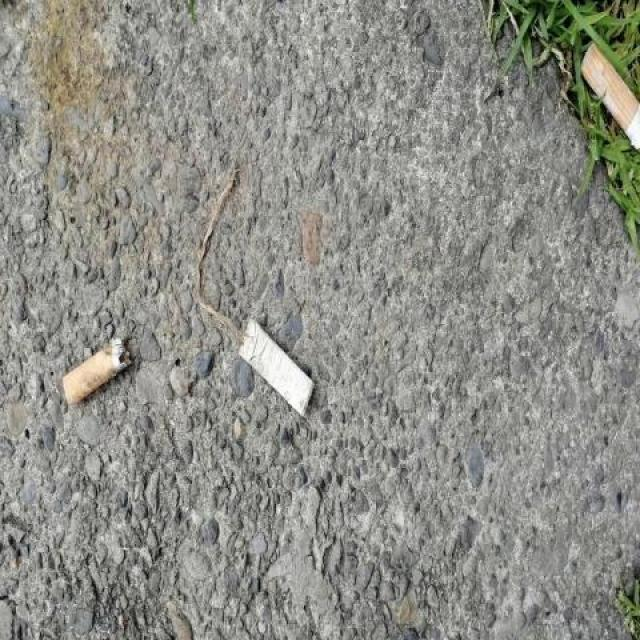non-organic waste: (230, 313, 318, 419), (574, 37, 640, 157), (57, 333, 135, 415)
